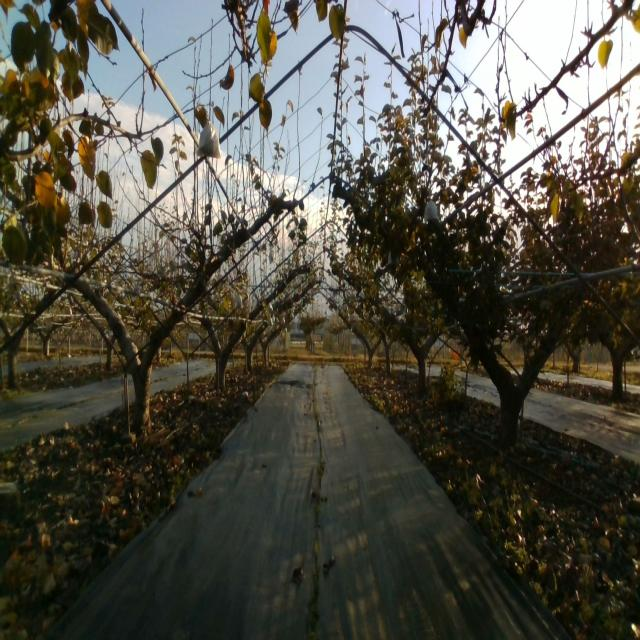pearbags: (196, 120, 222, 161), (424, 195, 439, 222)
